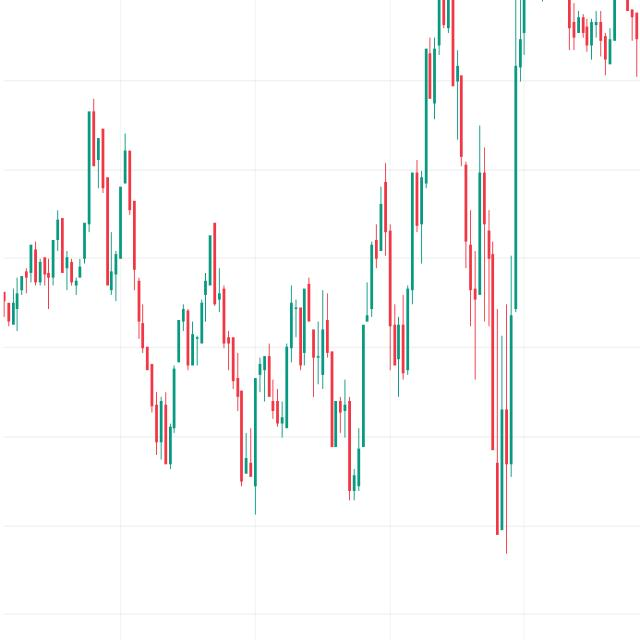Triple-Bottom: (132, 274, 378, 512)
